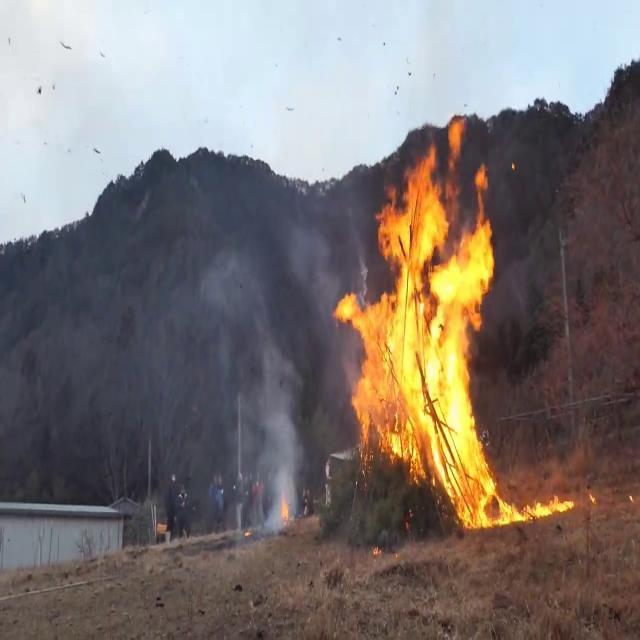Fire: (339, 134, 505, 530), (492, 481, 577, 526)
Smoke: (208, 178, 350, 530)
